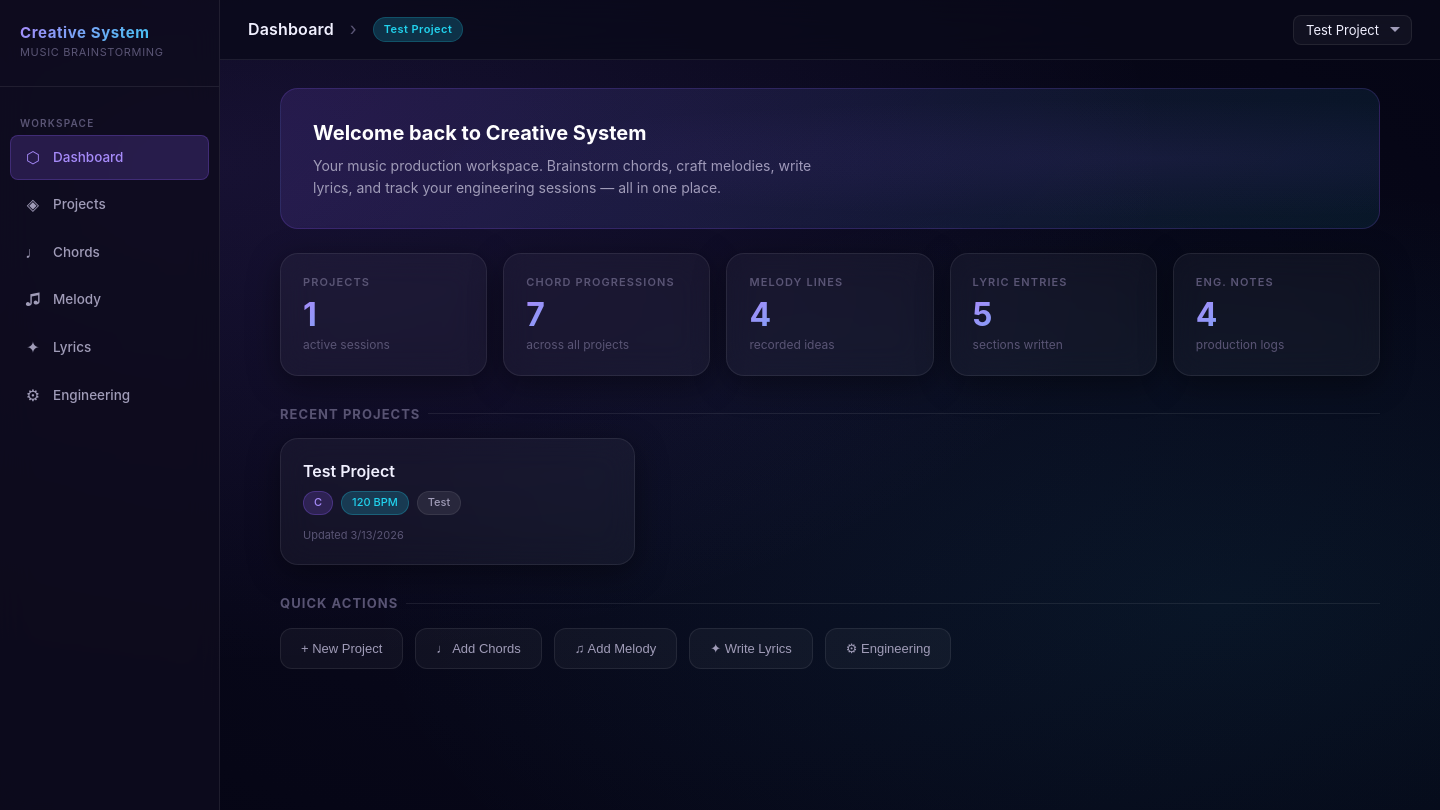
Navigation › navigates to projects page
Click the link "◈ Projects": point(66, 204) [27,194,106,214]
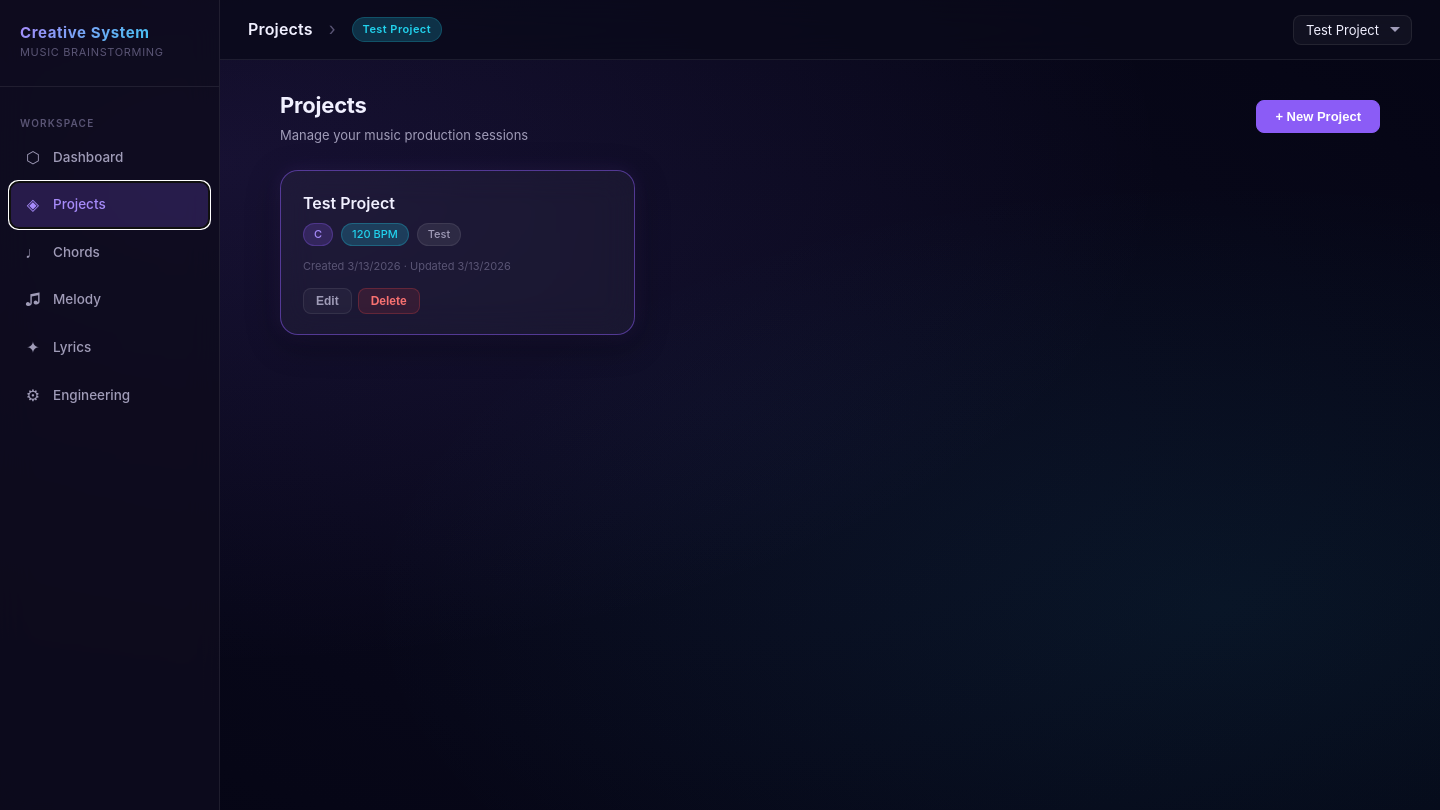
Result: the text "Manage your music production sessions" is shown at [280,125,528,146]
